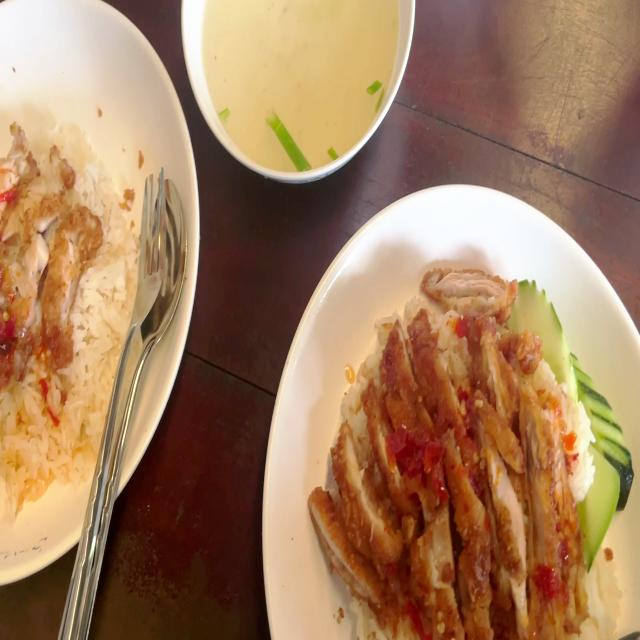chicken_rice: (305, 256, 632, 640), (0, 94, 132, 500)
cucumber: (564, 346, 636, 572), (511, 272, 579, 413)
fried_chicken: (308, 266, 577, 640), (0, 122, 100, 368)
